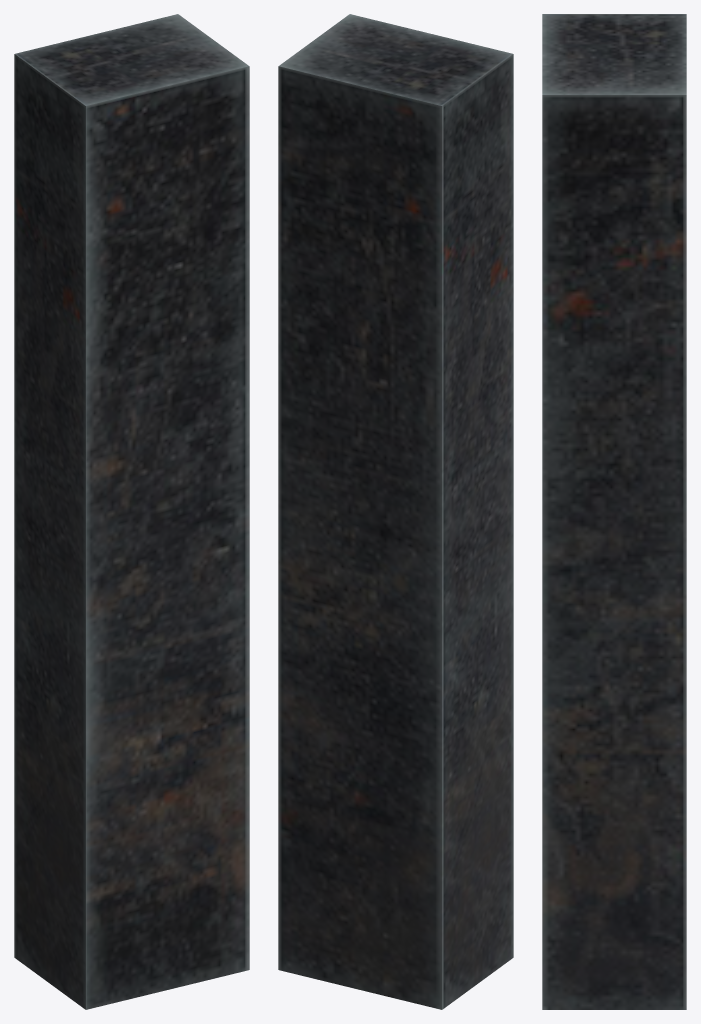
The model's file is MetalPillar.FBX.
3 views of the same model, side by side, from view 1: azimuth 30°, elevation 25°; view 2: azimuth 150°, elevation 25°; view 3: azimuth 270°, elevation 25° (orthographic).
Visible parts, largest first — view 1: MetalPillar; view 2: MetalPillar; view 3: MetalPillar.
Boxes of the visible parts, x1,y1,x2,y2 form: MetalPillar: (14,14,249,1009); MetalPillar: (278,14,513,1009); MetalPillar: (542,14,686,1009).
Size of the model in its own units: 42.99 by 227 by 32.49.
